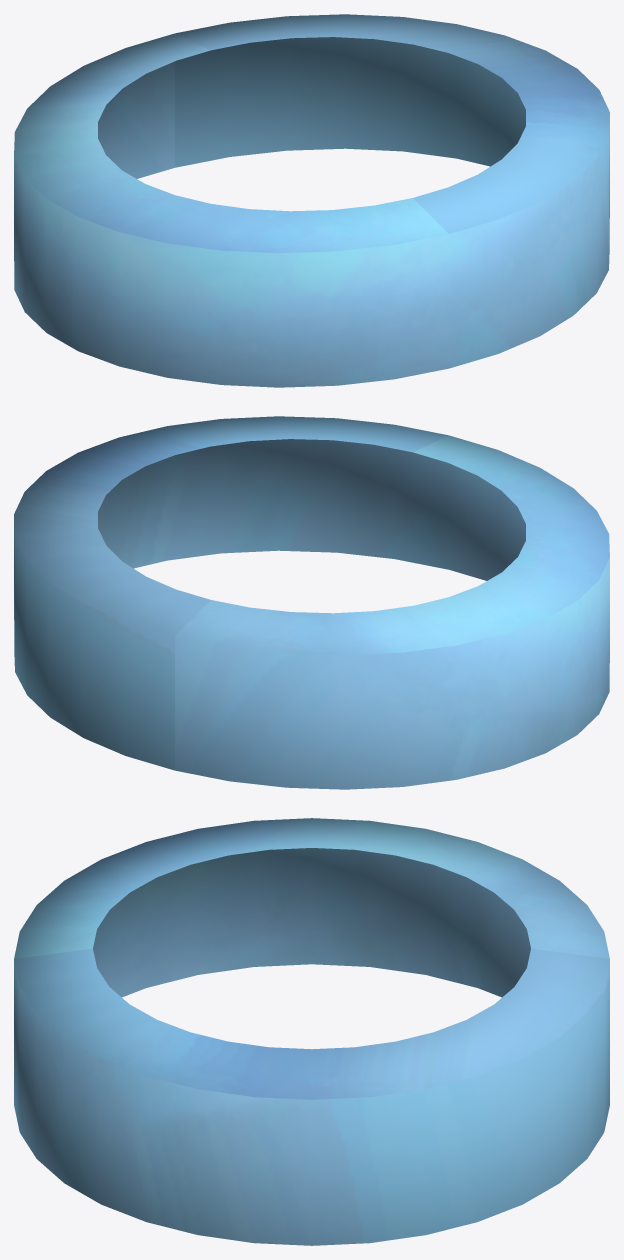
The model's file is Squid_CannonBase.fbx.
The picture shows the model from 3 angles, top to bottom: view 1: azimuth 30°, elevation 25°; view 2: azimuth 150°, elevation 25°; view 3: azimuth 270°, elevation 25°; orthographic projection. The views are drawn at different scales.
Parts seen in each view (by area): view 1: CannonBase_low.002; view 2: CannonBase_low.002; view 3: CannonBase_low.002.
Boxes of the visible parts, x1,y1,x2,y2 form: CannonBase_low.002: [14, 14, 609, 387]; CannonBase_low.002: [14, 416, 609, 789]; CannonBase_low.002: [14, 818, 609, 1245].
Bounding box in the file's own units: 8.93 × 2.31 × 7.98.
